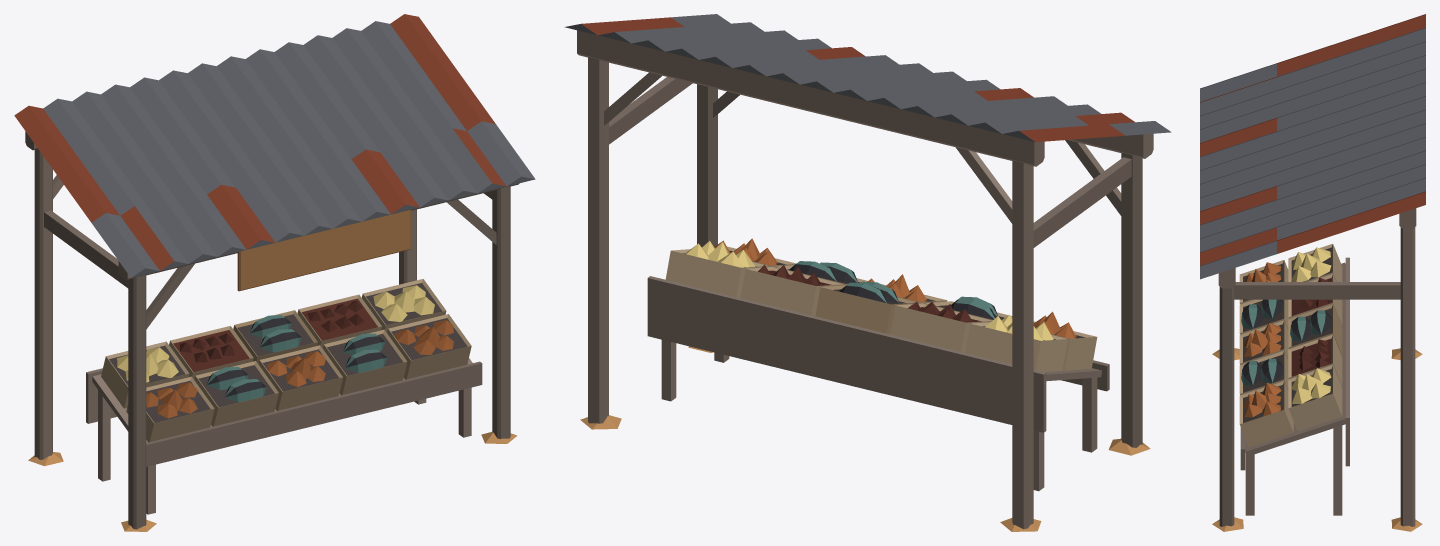
The model's file is fruit-stand-4cc7d7.glb.
The picture shows the model from 3 angles, left to right: view 1: azimuth 30°, elevation 25°; view 2: azimuth 150°, elevation 25°; view 3: azimuth 270°, elevation 25°; orthographic projection. The views are drawn at different scales.
Parts seen in each view (by area): view 1: fruit-stand; view 2: fruit-stand; view 3: fruit-stand.
Boxes of the visible parts, x1,y1,x2,y2 form: fruit-stand: (14,14,535,531); fruit-stand: (564,14,1171,531); fruit-stand: (1200,14,1425,531).
Size of the model in its own units: 4 by 3.28 by 2.
